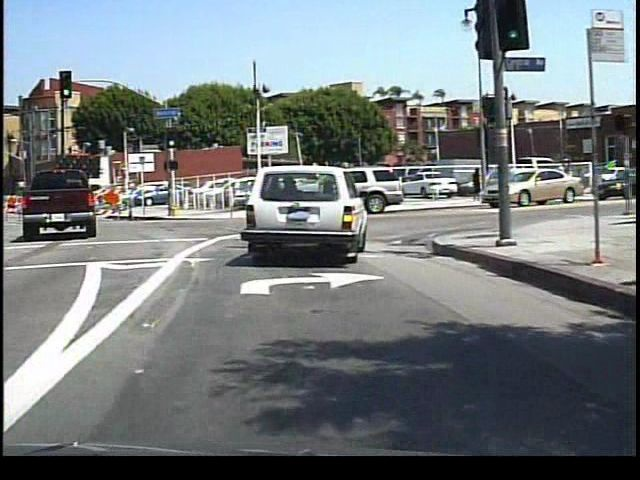person: (468, 166, 480, 203)
